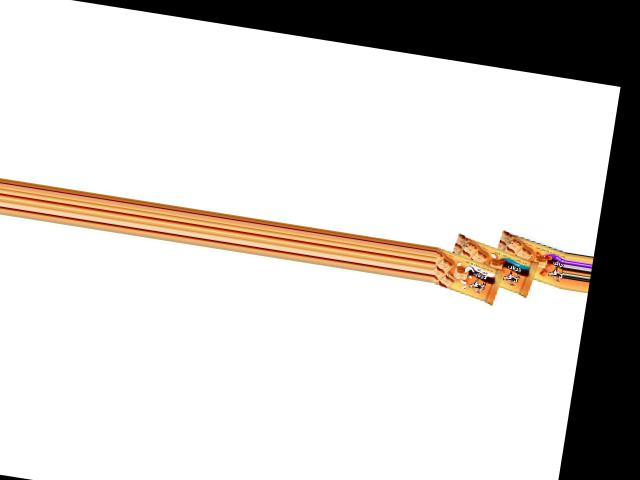chocolate: (486, 233, 568, 290)
